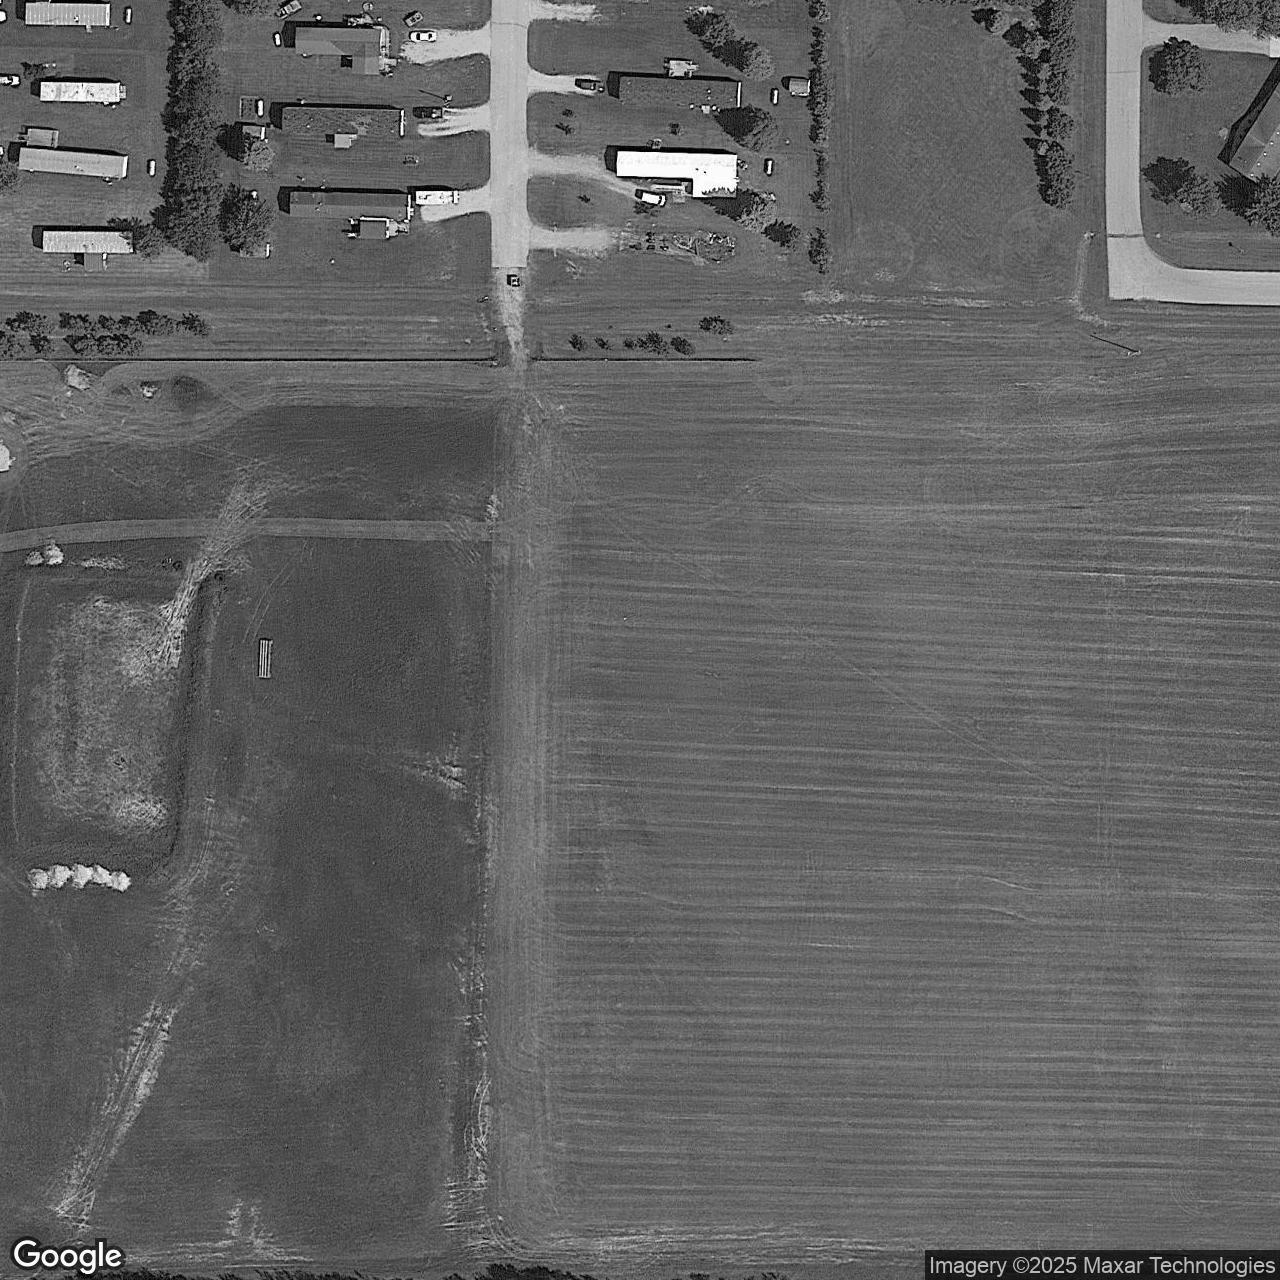House: (1227, 77, 1279, 191), (295, 29, 381, 75)
Propane: (763, 156, 776, 179), (145, 157, 158, 179), (271, 29, 285, 49), (123, 4, 135, 27), (254, 97, 266, 118), (770, 87, 782, 107)
Trailer: (617, 150, 737, 198), (290, 193, 413, 238), (281, 108, 406, 148), (618, 75, 742, 108), (43, 231, 136, 271), (18, 147, 128, 177), (25, 1, 111, 27), (40, 81, 120, 103)
